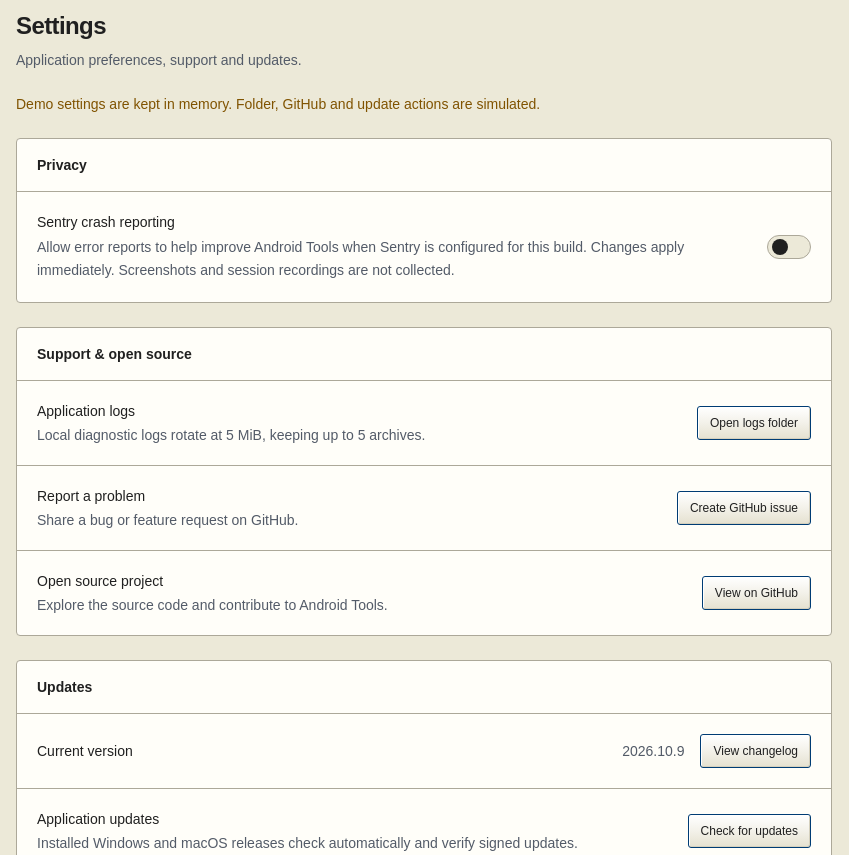
Scenario: Application settings › opens the logs folder, blocks duplicate requests and allows retry after failure
Click the button "Open logs folder" at (754, 422), box [697,406,811,440]
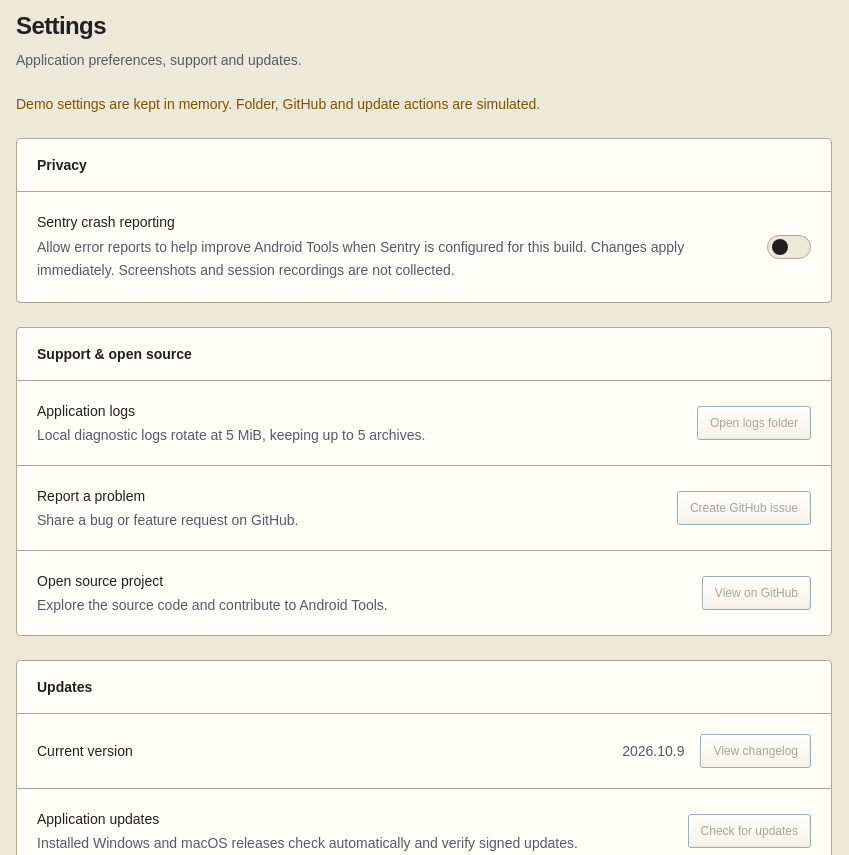
Expected: the button "Open logs folder" is disabled
Click the button "Open logs folder" at (754, 422), box [697,406,811,440]
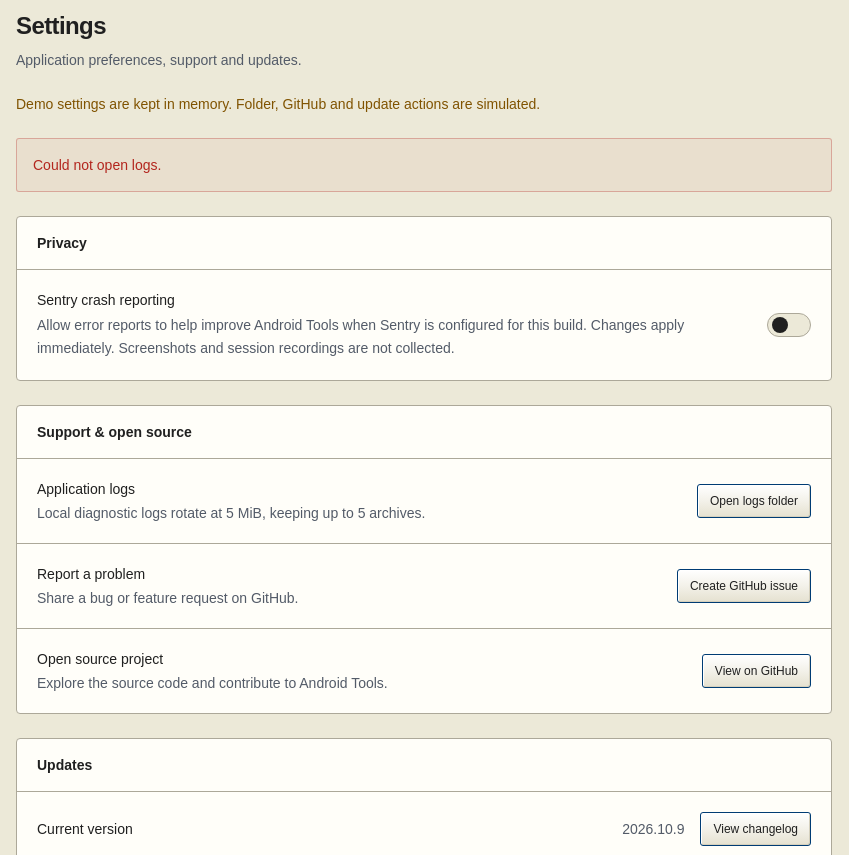
Expected: the message "Could not open logs." is shown, [16,138,832,192]
Click the button "Open logs folder" at (754, 500), box [697,484,811,518]
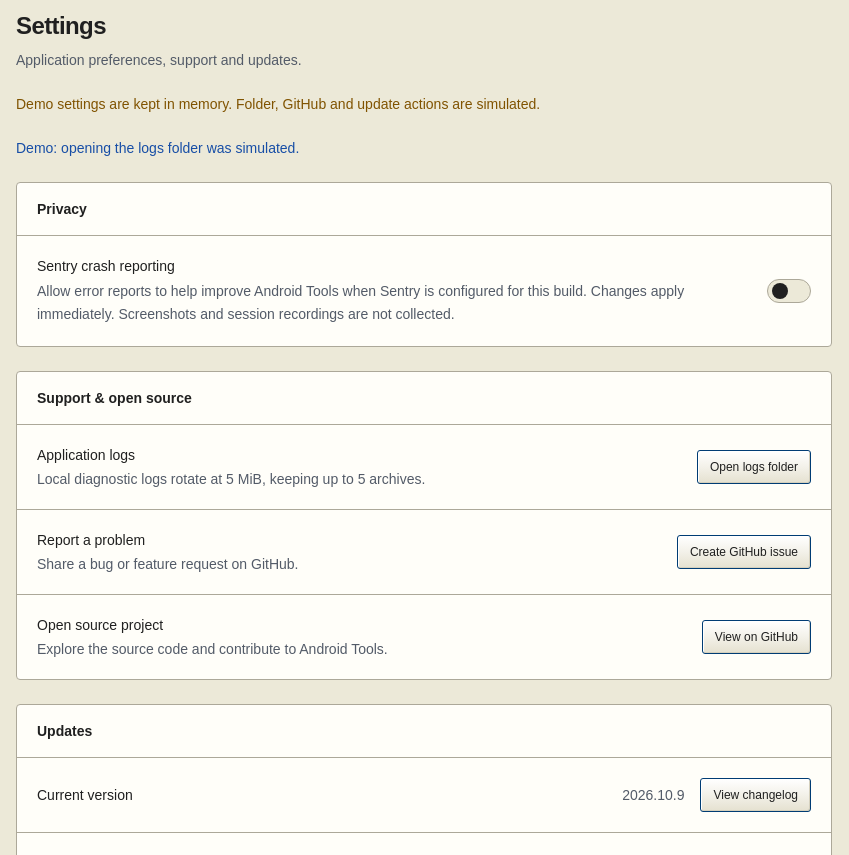
Expected: the message "Demo: opening the logs folder was simulated." is shown, [16,140,299,156]
